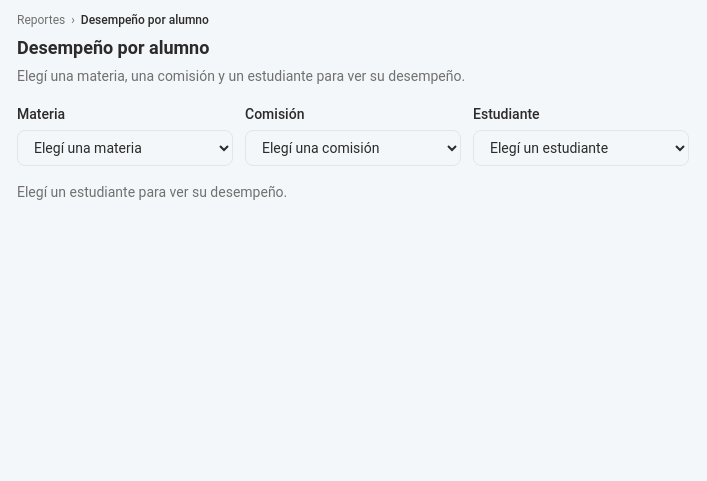
Test: DesempenoPorAlumno › cambiar de Materia reinicia Comisión, Estudiante y el resultado mostrado
expect the text "Elegí un estudiante para ver su desempeño." is shown: met, box [17,184,287,200]
Select "Ingeniería de Software" in the dropdown labelled "Materia": (125, 148) [17,130,233,166]
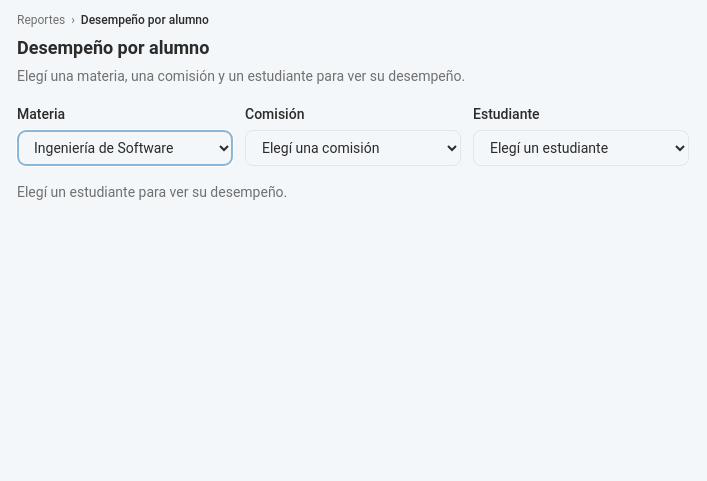
Select "Lunes 18-20hs" in the dropdown labelled "Comisión": (353, 148) [245,130,461,166]
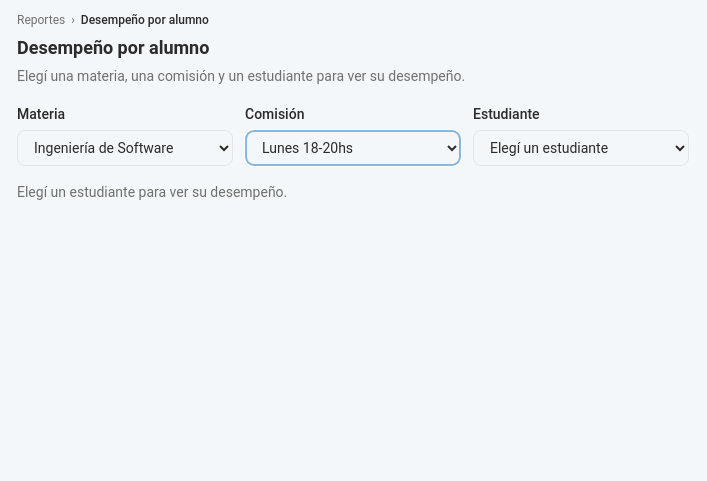
Select "Ana Pérez" in the dropdown labelled "Estudiante": (581, 148) [473,130,689,166]
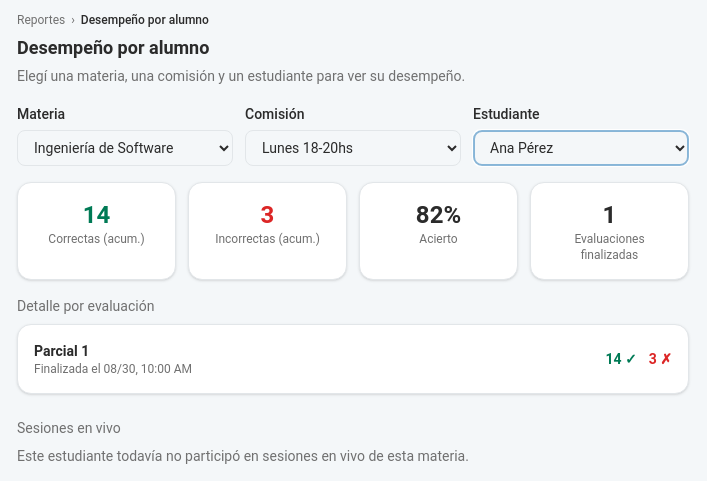
expect the text "Parcial 1" is shown: met, box [34,343,89,359]
Select "Gestión de Proyectos" in the dropdown labelled "Materia": (125, 148) [17,130,233,166]
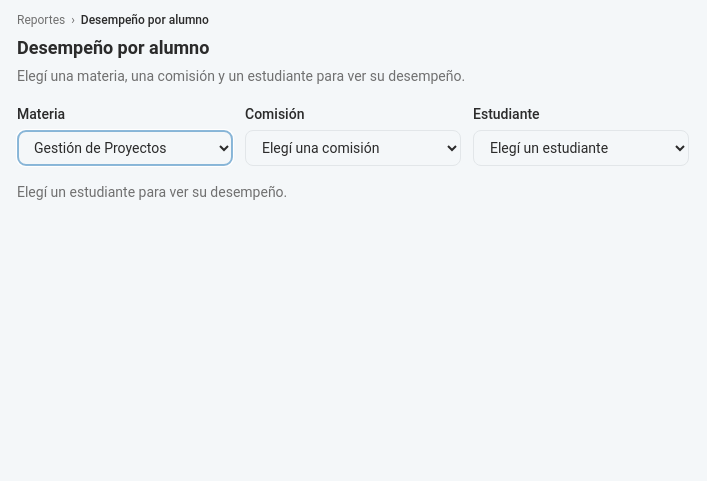
expect the text "Elegí un estudiante para ver su desempeño." is shown: met, box [17,184,287,200]
expect the text "Parcial 1" is gone: met
expect the dropdown labelled "Estudiante" is disabled: met, box [473,130,689,166]
